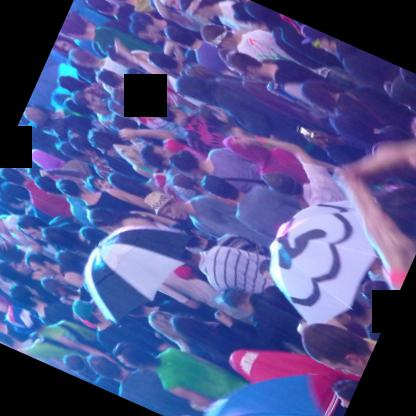backpack: (41, 322, 110, 355)
handbag: (343, 89, 394, 128), (221, 176, 266, 184)
